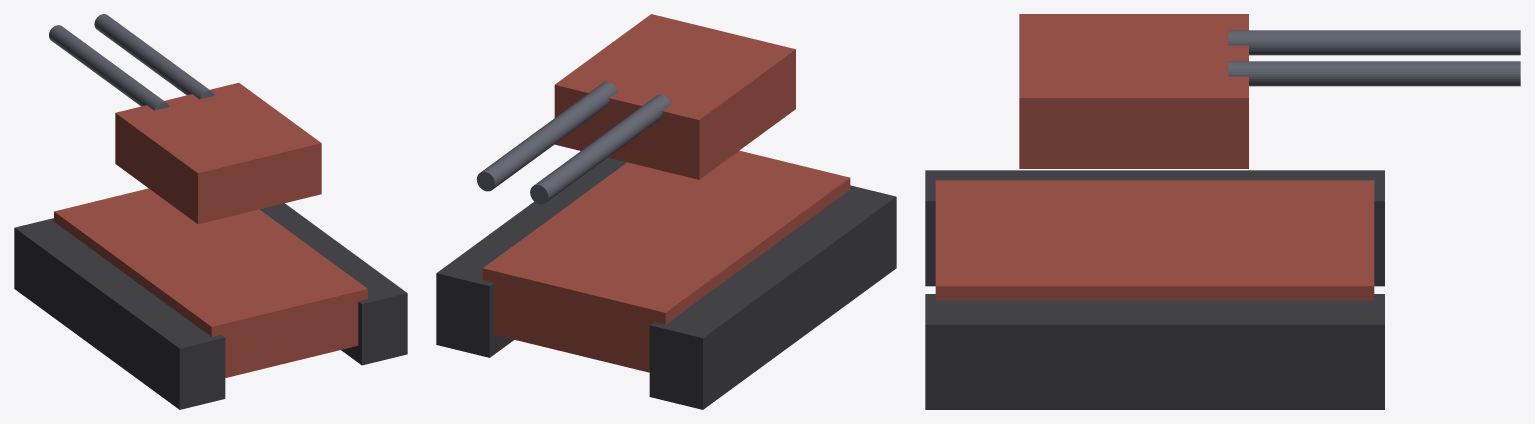
File: SU_VoevodaHeavyTank.fbx
The picture shows the model from 3 angles, left to right: view 1: azimuth 30°, elevation 25°; view 2: azimuth 150°, elevation 25°; view 3: azimuth 270°, elevation 25°; orthographic projection. The views are drawn at different scales.
Parts seen in each view (by area): view 1: Cube, Cube.003, Cube.001, Cube.002, Cylinder.001, Cylinder; view 2: Cube, Cube.001, Cube.003, Cube.002, Cylinder.001, Cylinder; view 3: Cube, Cube.002, Cube.003, Cylinder, Cylinder.001, Cube.001.
Boxes of the visible parts, x1,y1,x2,y2 form: Cube: [54, 188, 367, 377]; Cube.003: [115, 82, 321, 224]; Cube.001: [14, 218, 225, 409]; Cube.002: [260, 203, 407, 365]; Cylinder.001: [94, 14, 214, 99]; Cylinder: [49, 25, 169, 110]; Cube: [482, 150, 850, 372]; Cube.001: [649, 185, 896, 409]; Cube.003: [554, 14, 795, 179]; Cube.002: [436, 157, 626, 357]; Cylinder.001: [476, 81, 617, 191]; Cylinder: [530, 94, 670, 204]; Cube: [935, 180, 1374, 300]; Cube.002: [925, 294, 1384, 409]; Cube.003: [1019, 14, 1248, 168]; Cylinder: [1228, 30, 1520, 55]; Cylinder.001: [1228, 61, 1520, 86]; Cube.001: [925, 170, 1384, 286].
Size of the model in its own units: 350 by 302 by 570.
